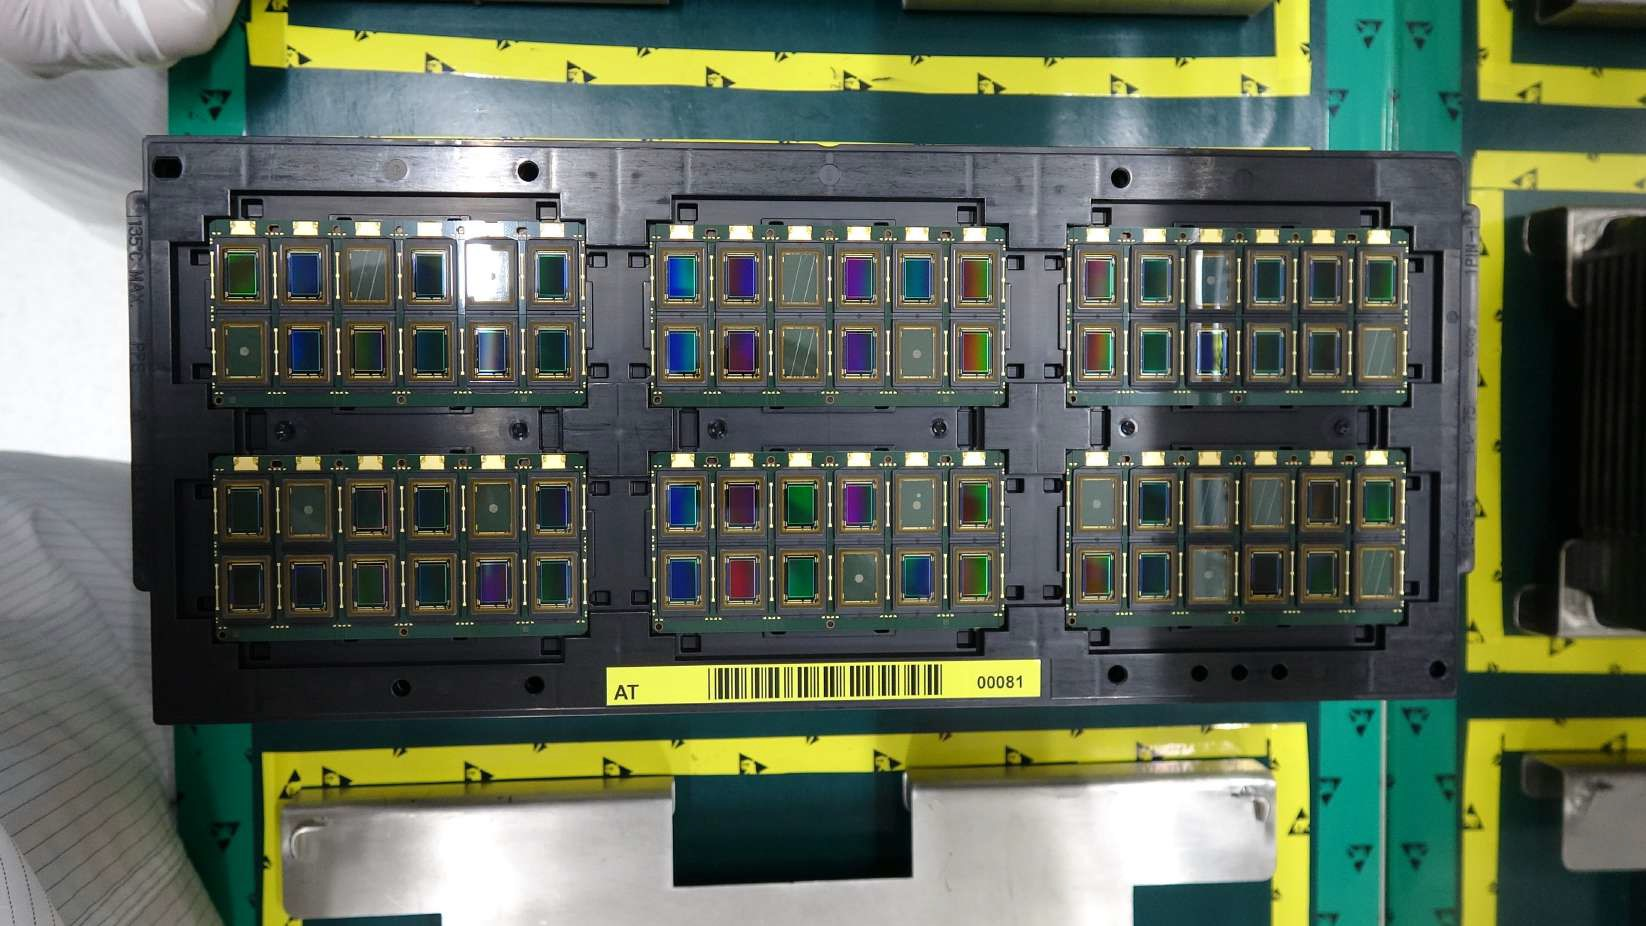Bad_mark_from_BMS_mold: (773, 244, 828, 310), (776, 317, 828, 384), (343, 241, 395, 308), (1355, 321, 1406, 382), (1186, 471, 1234, 533), (1354, 540, 1402, 603), (1244, 471, 1290, 533)
Bad_mark_from_Maker: (464, 236, 520, 306), (216, 318, 270, 384), (279, 476, 333, 542), (1186, 245, 1239, 310), (891, 319, 944, 383), (467, 474, 519, 539), (891, 470, 944, 534), (1071, 469, 1123, 533), (835, 546, 886, 609), (1186, 544, 1234, 604)
